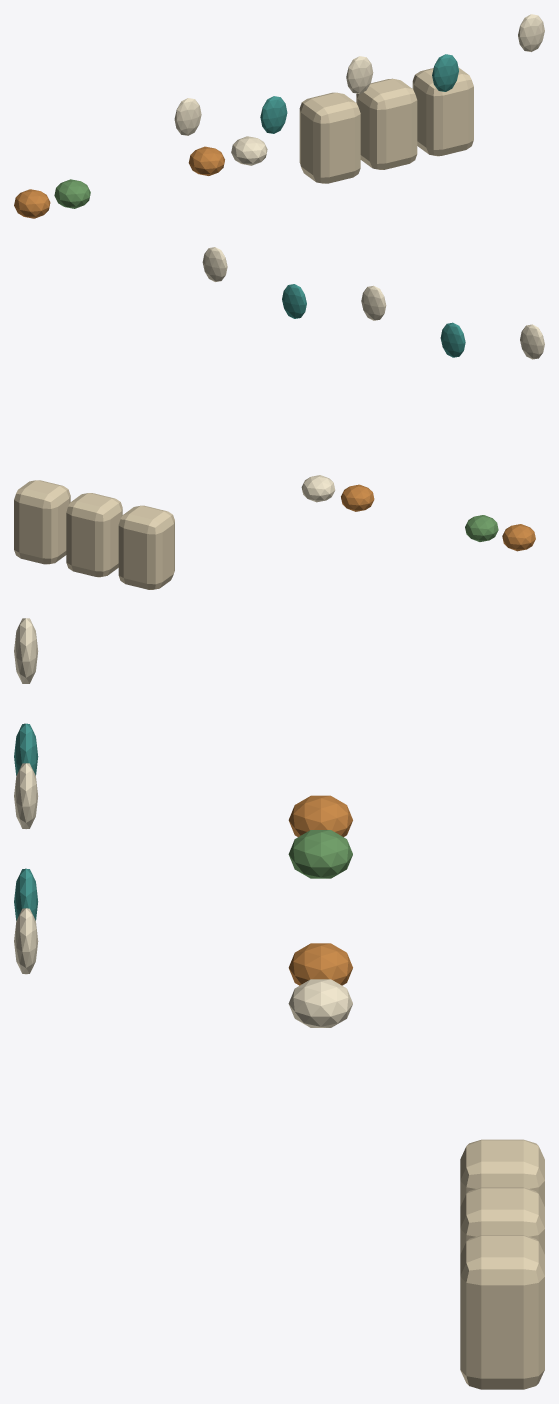
File: state_market_recovery_v01.glb
3 views of the same model, one above another, from view 1: azimuth 30°, elevation 25°; view 2: azimuth 150°, elevation 25°; view 3: azimuth 270°, elevation 25° (orthographic). The views are drawn at different scales.
Visible parts, largest first — view 1: GEO_FullSack, GEO_FullSack.001, GEO_FullSack.002, GEO_Produce.001, GEO_Produce, GEO_Produce.003, GEO_Produce.002, GEO_Bunting, GEO_Bunting.001, GEO_Bunting.002, GEO_Bunting.003, GEO_Bunting.004; view 2: GEO_FullSack, GEO_FullSack.002, GEO_FullSack.001, GEO_Produce, GEO_Produce.001, GEO_Produce.002, GEO_Produce.003, GEO_Bunting.002, GEO_Bunting.004, GEO_Bunting.001, GEO_Bunting, GEO_Bunting.003; view 3: GEO_FullSack.002, GEO_FullSack.001, GEO_FullSack, GEO_Produce.001, GEO_Produce.003, GEO_Produce.002, GEO_Produce, GEO_Bunting.004, GEO_Bunting.002, GEO_Bunting, GEO_Bunting.001, GEO_Bunting.003.
Part boxes in pixels (x1=…): GEO_FullSack: x1=299, y1=92, x2=360, y2=183; GEO_FullSack.001: x1=356, y1=78, x2=417, y2=169; GEO_FullSack.002: x1=412, y1=67, x2=473, y2=156; GEO_Produce.001: x1=54, y1=179, x2=90, y2=208; GEO_Produce: x1=14, y1=189, x2=50, y2=218; GEO_Produce.003: x1=231, y1=136, x2=267, y2=165; GEO_Produce.002: x1=188, y1=146, x2=224, y2=175; GEO_Bunting: x1=174, y1=98, x2=201, y2=135; GEO_Bunting.001: x1=260, y1=96, x2=287, y2=133; GEO_Bunting.002: x1=346, y1=56, x2=373, y2=93; GEO_Bunting.003: x1=432, y1=54, x2=458, y2=91; GEO_Bunting.004: x1=518, y1=14, x2=544, y2=51; GEO_FullSack: x1=118, y1=505, x2=174, y2=589; GEO_FullSack.002: x1=14, y1=480, x2=70, y2=564; GEO_FullSack.001: x1=66, y1=493, x2=122, y2=577; GEO_Produce: x1=502, y1=524, x2=535, y2=551; GEO_Produce.001: x1=465, y1=515, x2=498, y2=541; GEO_Produce.002: x1=341, y1=484, x2=374, y2=511; GEO_Produce.003: x1=301, y1=475, x2=335, y2=502; GEO_Bunting.002: x1=361, y1=285, x2=386, y2=320; GEO_Bunting.004: x1=202, y1=247, x2=227, y2=281; GEO_Bunting.001: x1=440, y1=322, x2=465, y2=357; GEO_Bunting: x1=520, y1=324, x2=544, y2=359; GEO_Bunting.003: x1=282, y1=284, x2=306, y2=318; GEO_FullSack.002: x1=460, y1=1235, x2=544, y2=1389; GEO_FullSack.001: x1=460, y1=1187, x2=544, y2=1254; GEO_FullSack: x1=460, y1=1139, x2=544, y2=1206; GEO_Produce.001: x1=288, y1=830, x2=352, y2=878; GEO_Produce.003: x1=288, y1=979, x2=352, y2=1027; GEO_Produce.002: x1=288, y1=943, x2=352, y2=985; GEO_Produce: x1=288, y1=795, x2=352, y2=836; GEO_Bunting.004: x1=14, y1=908, x2=38, y2=974; GEO_Bunting.002: x1=14, y1=763, x2=38, y2=829; GEO_Bunting: x1=14, y1=618, x2=38, y2=683; GEO_Bunting.001: x1=14, y1=723, x2=38, y2=775; GEO_Bunting.003: x1=14, y1=868, x2=38, y2=920.
Size of the model in its own units: 4.97 by 2.34 by 2.63.
